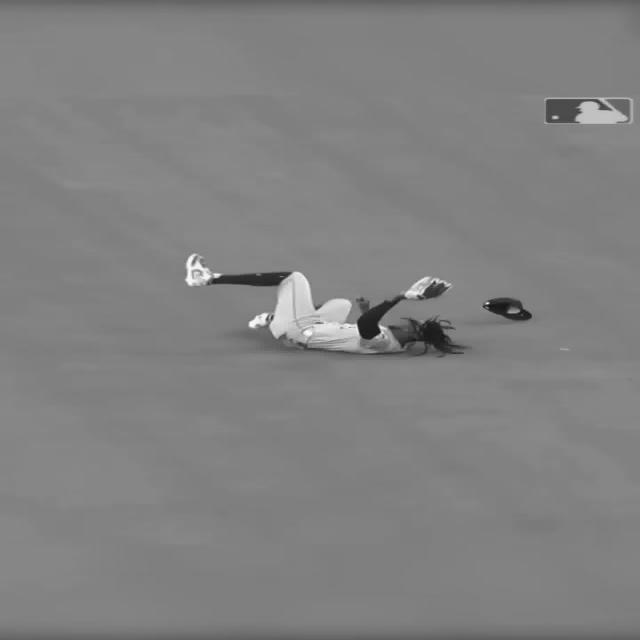baseball_glove: (397, 278, 453, 300)
shoe: (185, 254, 217, 288), (246, 312, 280, 329)
